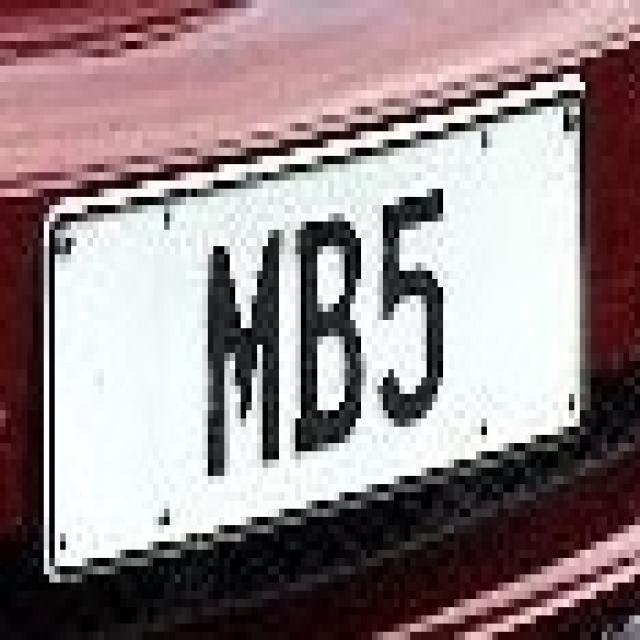licenseplate: (18, 135, 594, 554)
